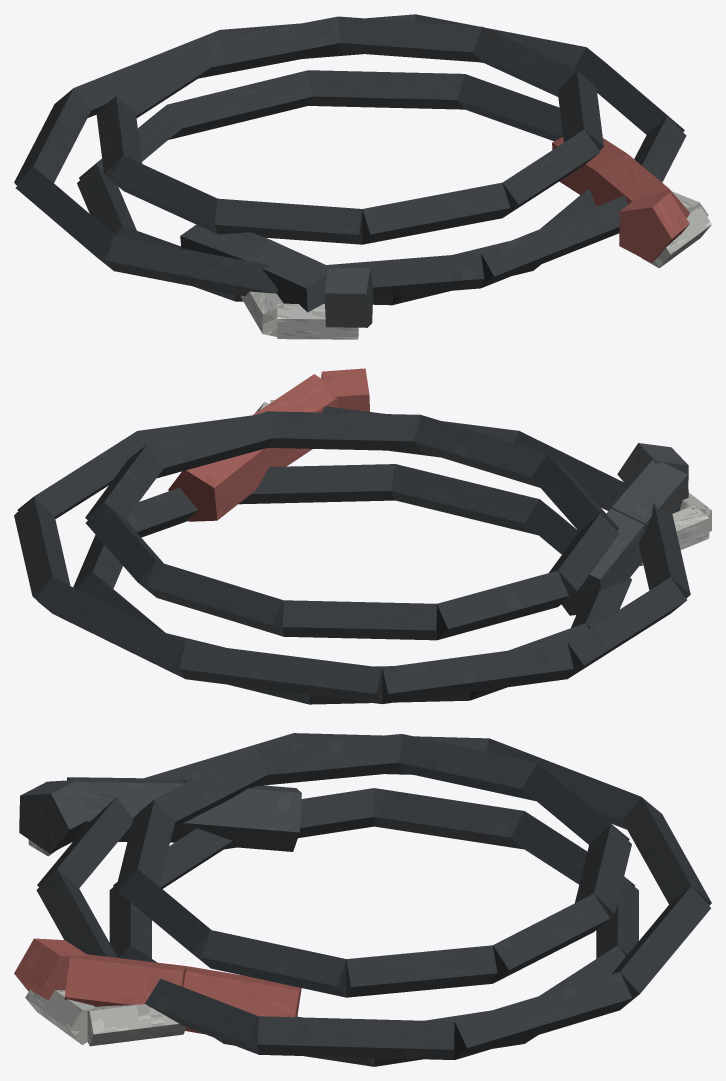
File: jumper_cable.glb
3 renders of one model, top to bottom at view 1: azimuth 30°, elevation 25°; view 2: azimuth 150°, elevation 25°; view 3: azimuth 270°, elevation 25°, orthographic. The views are drawn at different scales.
Parts seen in each view (by area): view 1: block_lead terminal 2 (×2), block_lead terminal 1 (×2), block_coiled length1-2, block_coiled length0-8, block_coiled length2-9, block_coiled length2-0, block_coiled length1-0, block_coiled length2-5, block_coiled length0-7, block_coiled length2-4, block_coiled length1-1, block_coiled length2-1 (+21 smaller); view 2: block_coiled length1-5, block_lead terminal 0 (×2), block_coiled length1-4, block_coiled length2-3, block_coiled length2-8, block_coiled length0-2, block_coiled length1-6, block_coiled length0-1, block_lead terminal 1 (×2), block_coiled length2-4, block_coiled length2-2, block_coiled length2-9 (+22 smaller); view 3: block_lead terminal 0 (×2), block_lead terminal 1 (×2), block_coiled length1-8, block_coiled length1-7, block_lead terminal 2 (×2), block_coiled length2-6, block_coiled length0-5, block_coiled length2-7, block_coiled length2-1, block_coiled length2-2, block_coiled length2-5, block_coiled length1-9 (+21 smaller).
Part boxes in pixels (box(x1,y1,x2,y2)): block_lead terminal 2 (×2): box(324, 192, 689, 327); block_lead terminal 1 (×2): box(243, 154, 689, 312); block_coiled length1-2: box(106, 235, 277, 296); block_coiled length0-8: box(308, 70, 464, 109); block_coiled length2-9: box(362, 182, 510, 244); block_coiled length2-0: box(214, 198, 362, 244); block_coiled length1-0: box(481, 195, 627, 288); block_coiled length2-5: box(338, 16, 482, 62); block_coiled length0-7: box(167, 70, 312, 139); block_coiled length2-4: box(198, 16, 340, 78); block_coiled length1-1: box(326, 252, 484, 296); block_coiled length2-1: box(109, 156, 217, 233); block_coiled length1-5: box(180, 642, 382, 703); block_lead terminal 0 (×2): box(168, 448, 644, 615); block_coiled length1-4: box(382, 642, 573, 703); block_coiled length2-3: box(282, 600, 436, 640); block_coiled length2-8: box(267, 411, 420, 451); block_coiled length0-2: box(390, 464, 539, 535); block_coiled length1-6: box(37, 577, 185, 678); block_coiled length0-1: box(238, 464, 395, 504); block_lead terminal 1 (×2): box(252, 374, 688, 529); block_coiled length2-4: box(145, 561, 283, 636); block_coiled length2-2: box(437, 570, 568, 640); block_coiled length2-9: box(414, 415, 547, 487); block_lead terminal 0 (×2): box(182, 779, 301, 1034); block_lead terminal 1 (×2): box(64, 777, 187, 1007); block_coiled length1-8: box(257, 1016, 454, 1059); block_coiled length1-7: box(454, 972, 632, 1059); block_lead terminal 2 (×2): box(14, 780, 88, 1000); block_coiled length2-6: box(346, 945, 497, 997); block_coiled length0-5: box(374, 788, 524, 849); block_coiled length2-7: box(201, 930, 346, 997); block_coiled length2-1: box(256, 734, 401, 786); block_coiled length2-2: box(399, 734, 537, 800); block_coiled length2-5: box(493, 893, 609, 983); block_coiled length1-9: box(145, 978, 258, 1054).
Bounding box in the file's own units: 0.2857 × 0.0436 × 0.275.
1 material, 1 textured.
